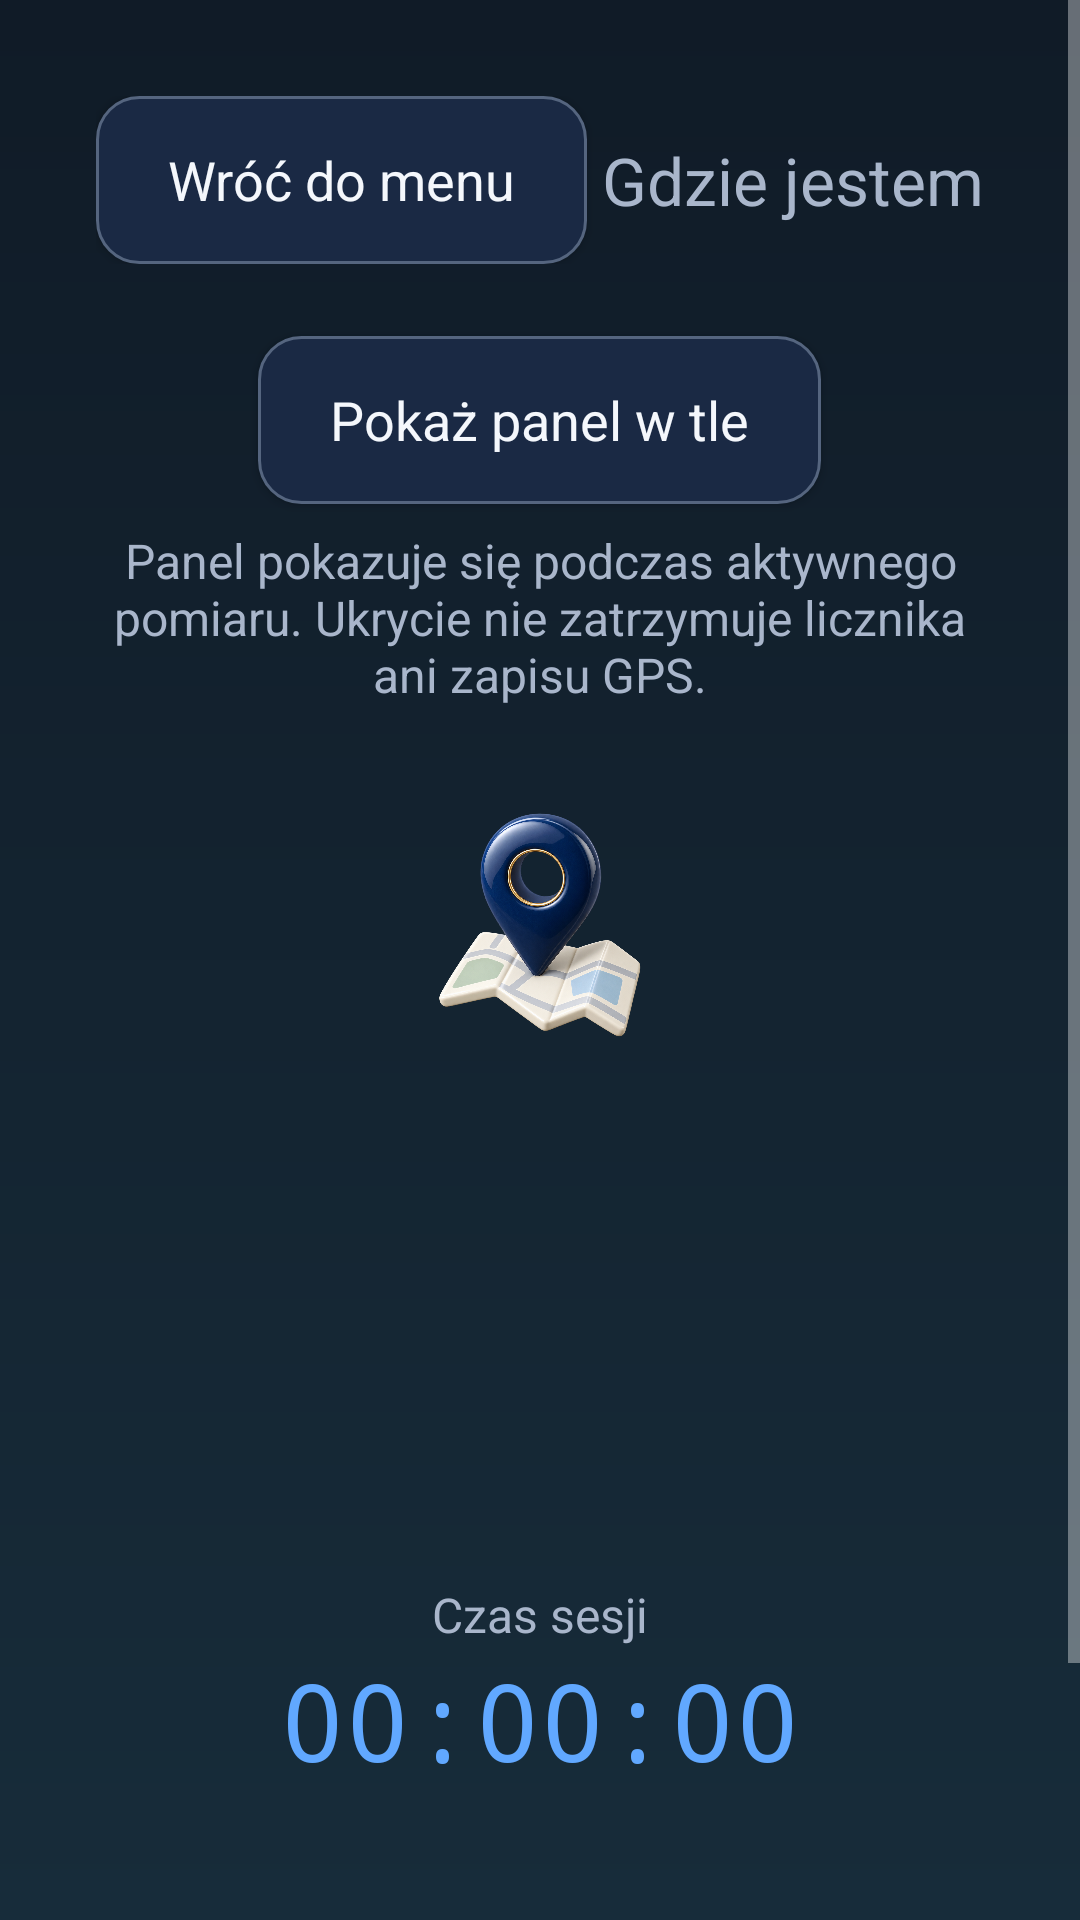

Named icons in this screenshot (1080*1920) and their bounding boxes, {"x1": x1, "y1": y1, "x2": x2, "y2": y2}:
art navigation pin: {"x1": 439, "y1": 813, "x2": 640, "y2": 1036}
